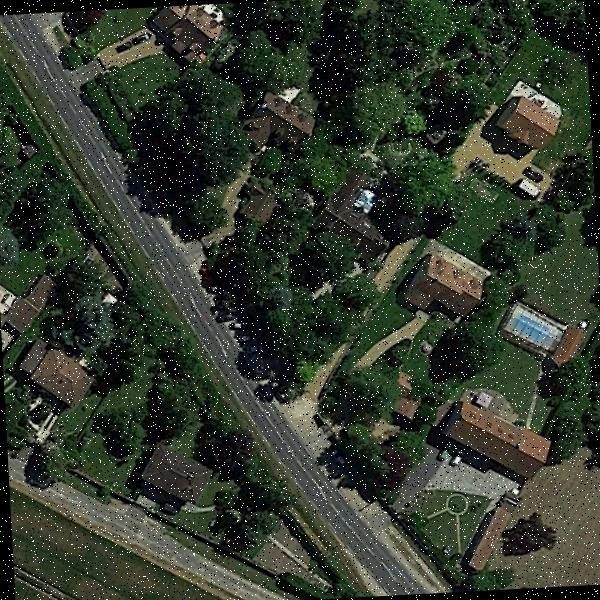Buildings: (450, 407, 540, 474), (409, 262, 481, 318), (324, 180, 384, 242), (28, 354, 92, 408), (157, 3, 222, 56), (246, 93, 304, 152), (0, 265, 49, 332), (502, 103, 558, 152), (465, 504, 505, 571), (146, 451, 200, 500), (550, 321, 586, 359), (244, 184, 274, 223)
